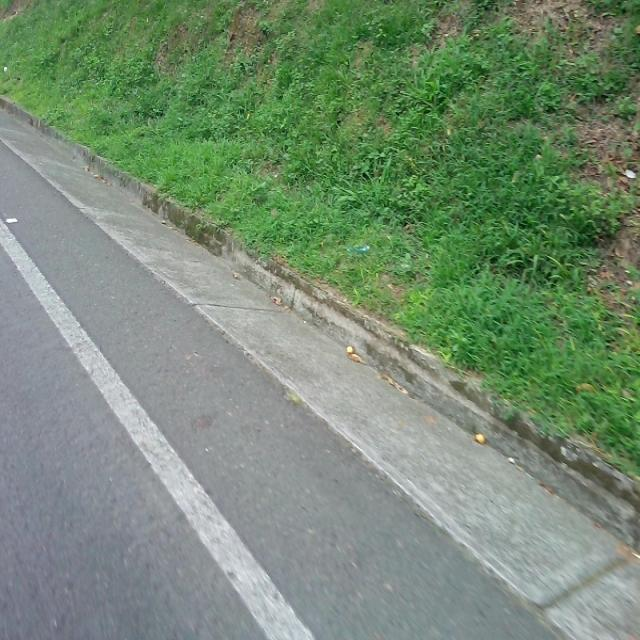DITCH: (1, 94, 638, 638)
